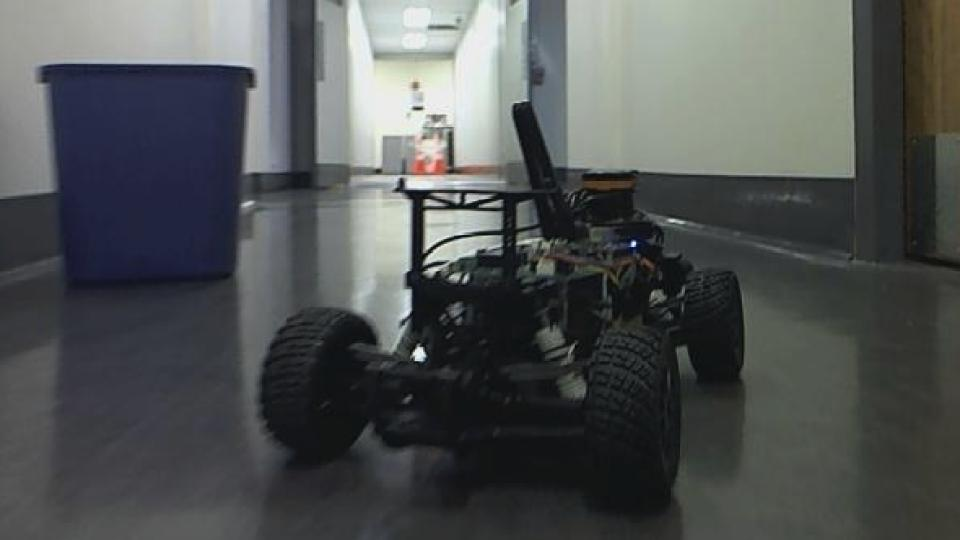car: (256, 98, 750, 511)
